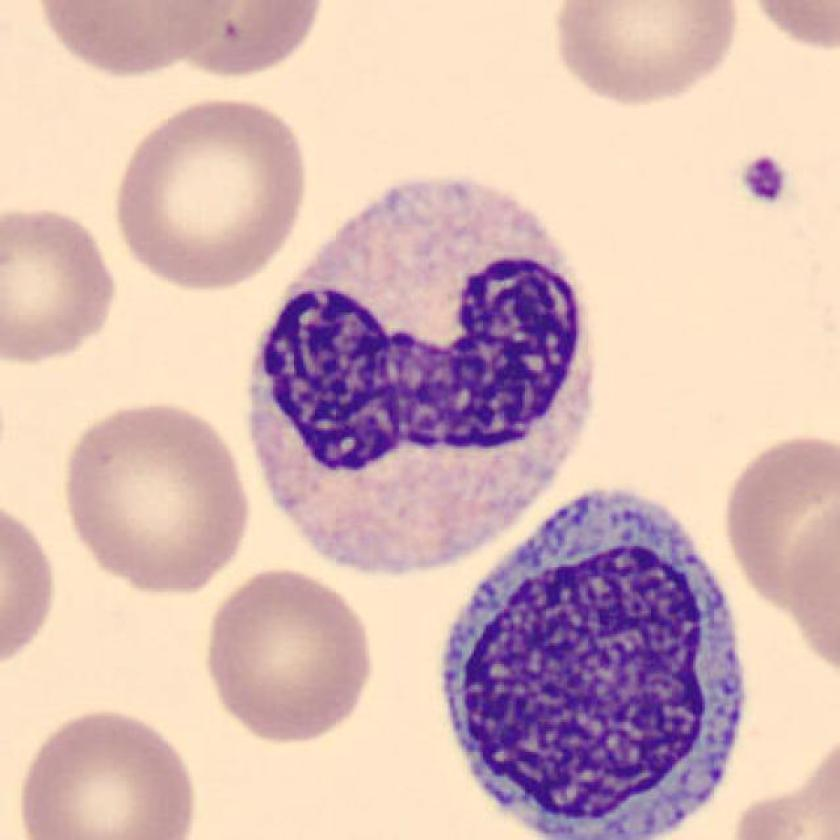lymphocyte: (447, 490, 742, 840)
neutrophil: (249, 178, 593, 575)
